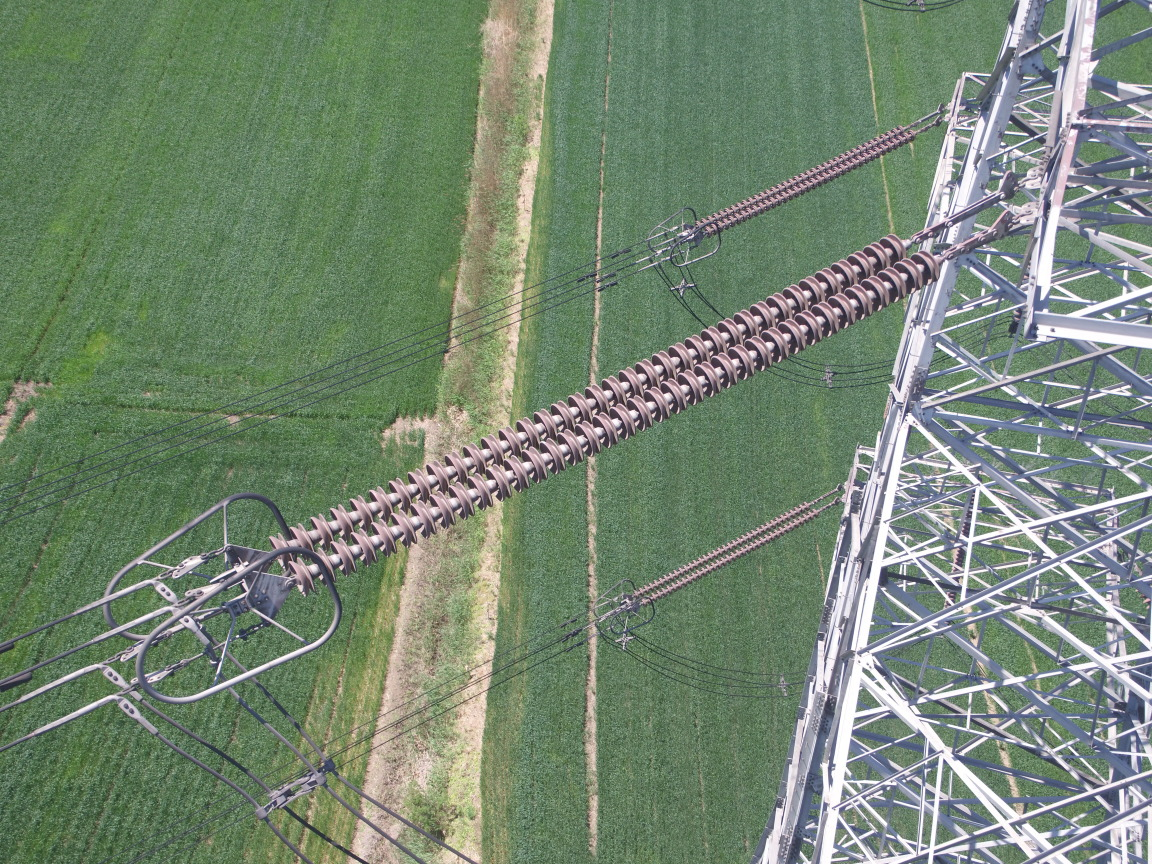insulator: (254, 210, 985, 601), (685, 117, 930, 245), (632, 493, 830, 602)
